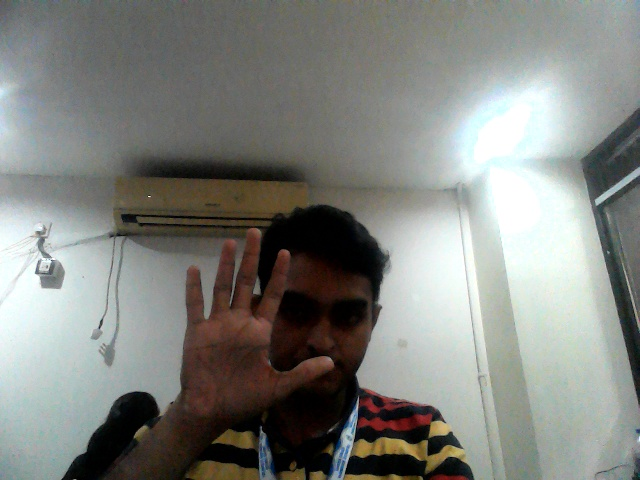palm: (177, 223, 337, 419)
